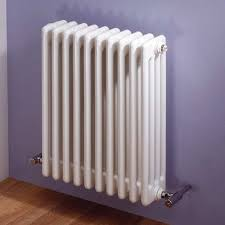Radiator: (31, 18, 184, 207)
